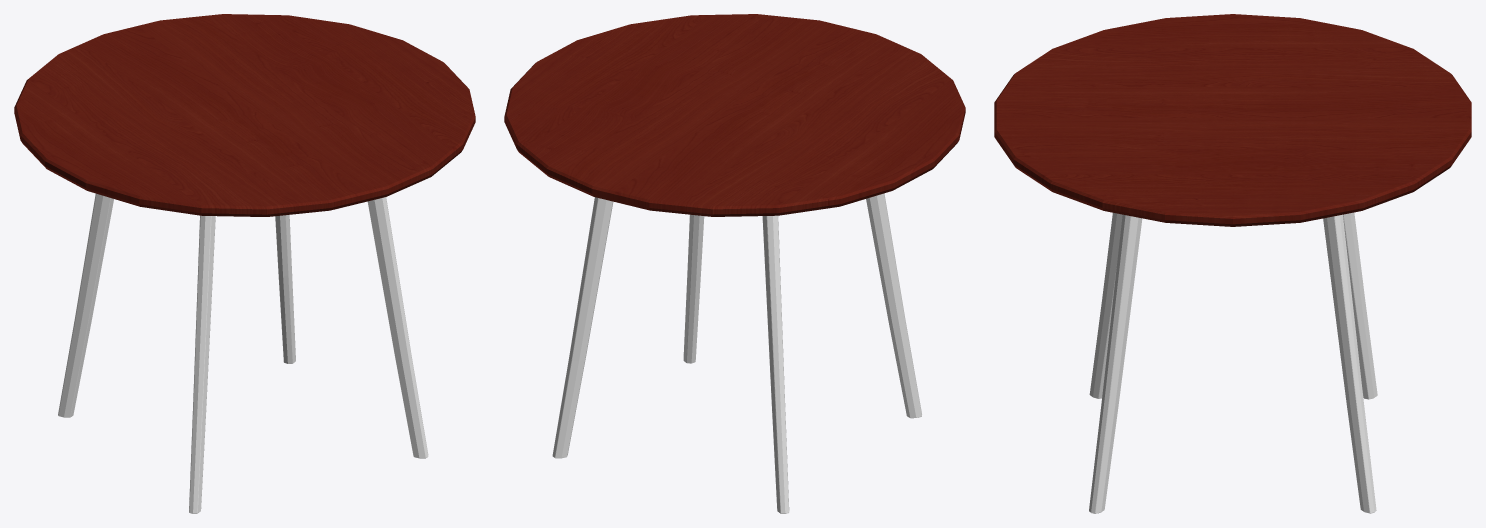
File: Table 13.FBX
The picture shows the model from 3 angles, left to right: view 1: azimuth 30°, elevation 25°; view 2: azimuth 150°, elevation 25°; view 3: azimuth 270°, elevation 25°; orthographic projection. The views are drawn at different scales.
Parts seen in each view (by area): view 1: Table 13; view 2: Table 13; view 3: Table 13.
Part boxes in pixels (left/top/right/bottom): Table 13: left=14, top=14, right=475, bottom=513; Table 13: left=504, top=14, right=965, bottom=513; Table 13: left=994, top=14, right=1471, bottom=513.
Size of the model in its own units: 97.23 by 75.51 by 96.24.
2 materials, 2 textured.
